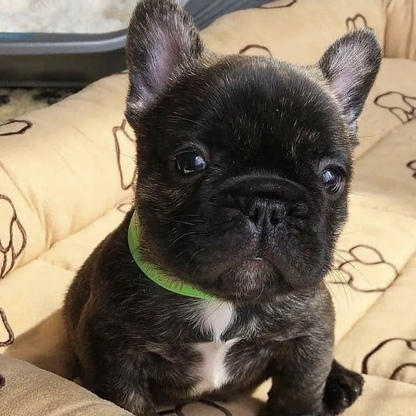bulldog: (122, 6, 384, 305)
